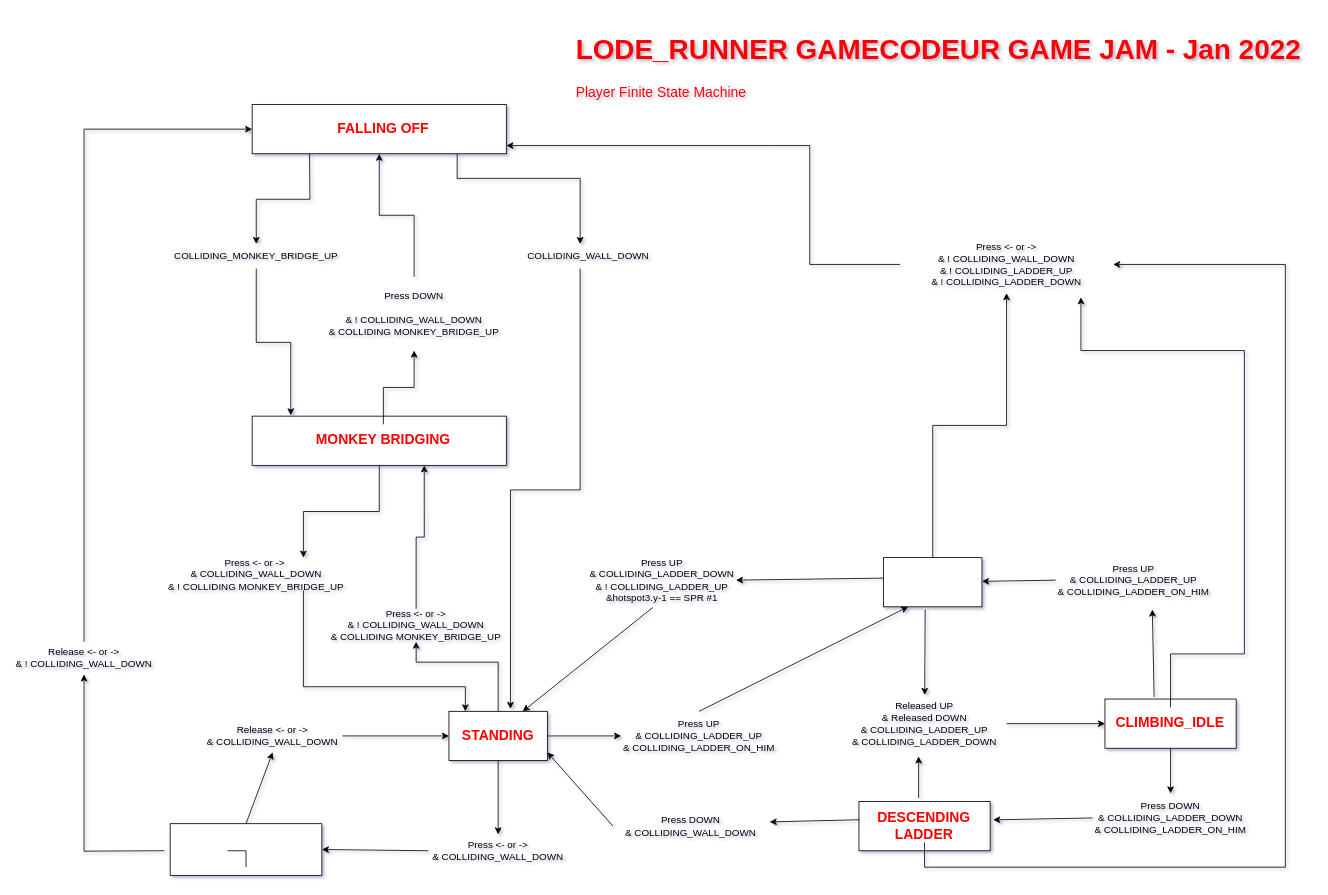
The diagram is 1328 pixels wide and 895 high, and some of its shapes have lost their labels. The box of each missing label's shape, as (x1, y1, x2, y2) in pixels:
ASCENDING LADDER: (883, 557, 982, 607)
WALKING_LEFT WALKING_RIGHT: (169, 823, 322, 875)
